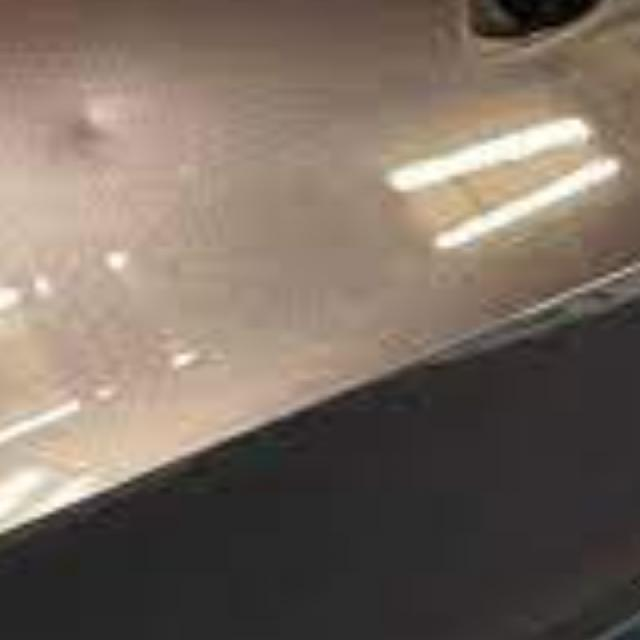dents: (54, 85, 168, 181)
